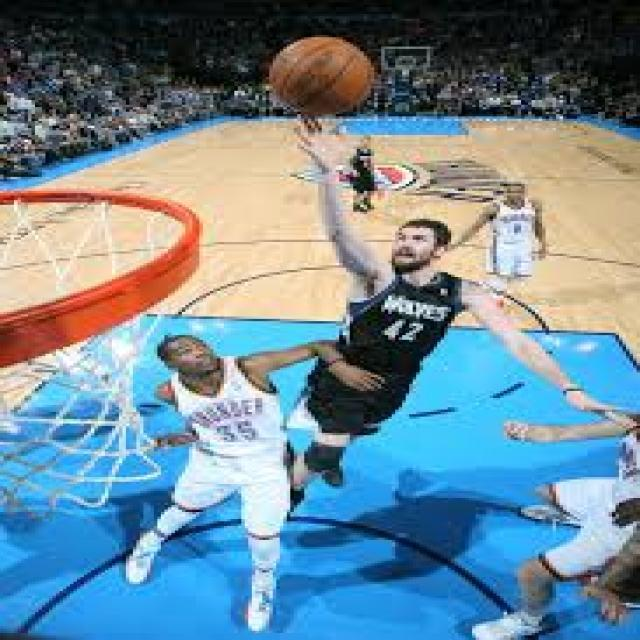rim: (272, 34, 378, 110)
